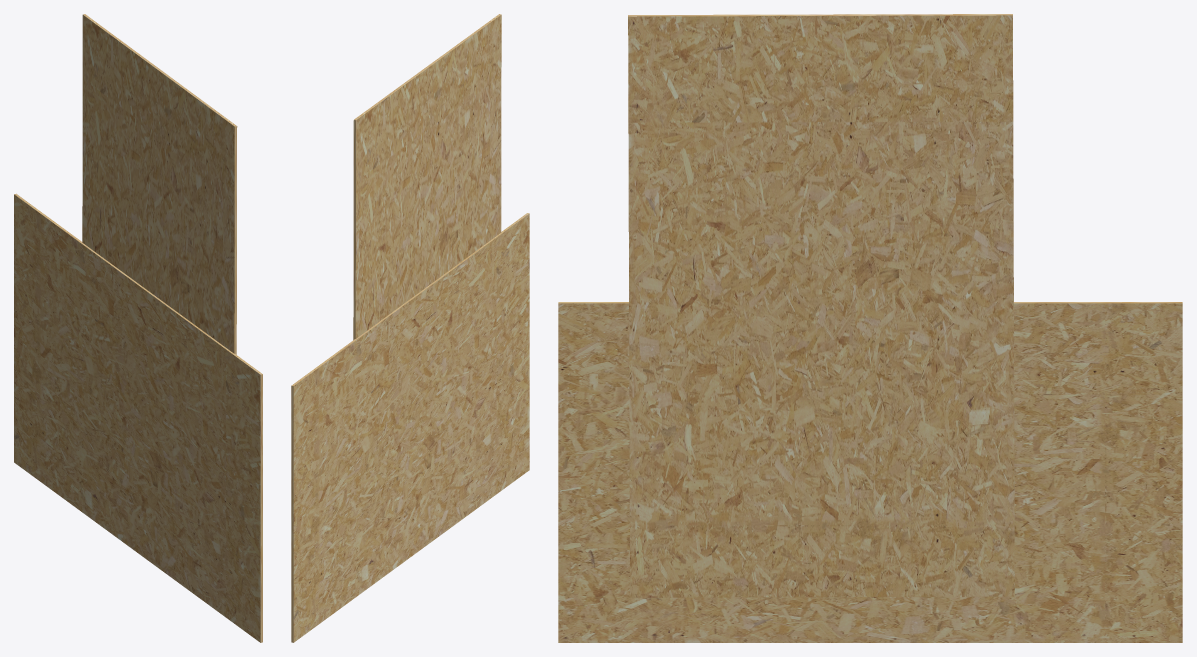
Rendered from dubulta.glb.
The picture shows the model from 3 angles, left to right: view 1: azimuth 30°, elevation 25°; view 2: azimuth 150°, elevation 25°; view 3: azimuth 270°, elevation 25°; orthographic projection. The views are drawn at different scales.
Parts seen in each view (by area): view 1: Cube.012, Cube.013; view 2: Cube.012, Cube.013; view 3: Cube.013, Cube.012.
Boxes of the visible parts, x1,y1,x2,y2 form: Cube.012: (14,193,262,642); Cube.013: (82,14,237,354); Cube.012: (291,213,529,642); Cube.013: (353,14,501,339); Cube.013: (628,14,1014,597); Cube.012: (558,302,1182,642).
Size of the model in its own units: 0.0241 by 2.8 by 2.52.
2 materials, 2 textured.
